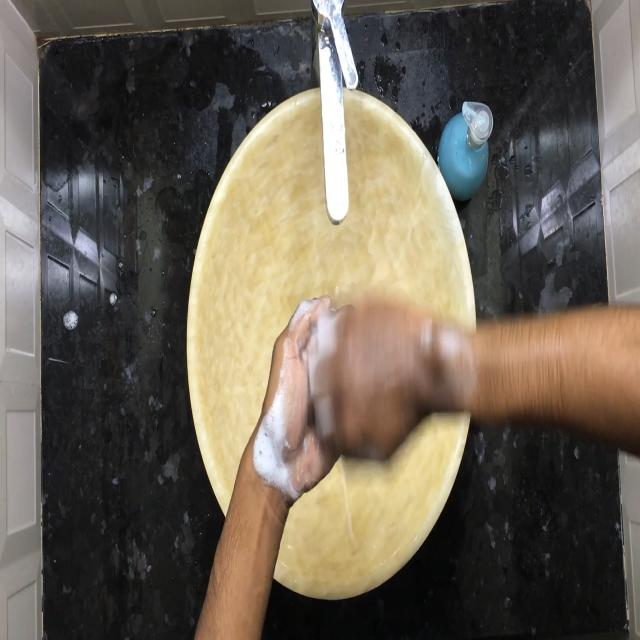step_4: (260, 288, 446, 464)
